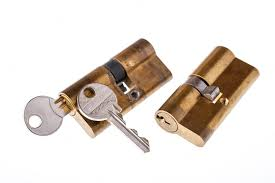key: (75, 82, 156, 154), (17, 92, 76, 141)
